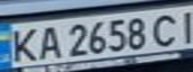2: (63, 20, 90, 57)
5: (106, 16, 130, 53)
6: (87, 18, 112, 55)
8: (124, 13, 154, 51)
A: (33, 22, 63, 61)
C: (148, 10, 187, 46)
I: (172, 7, 193, 44)
K: (3, 25, 42, 63)
